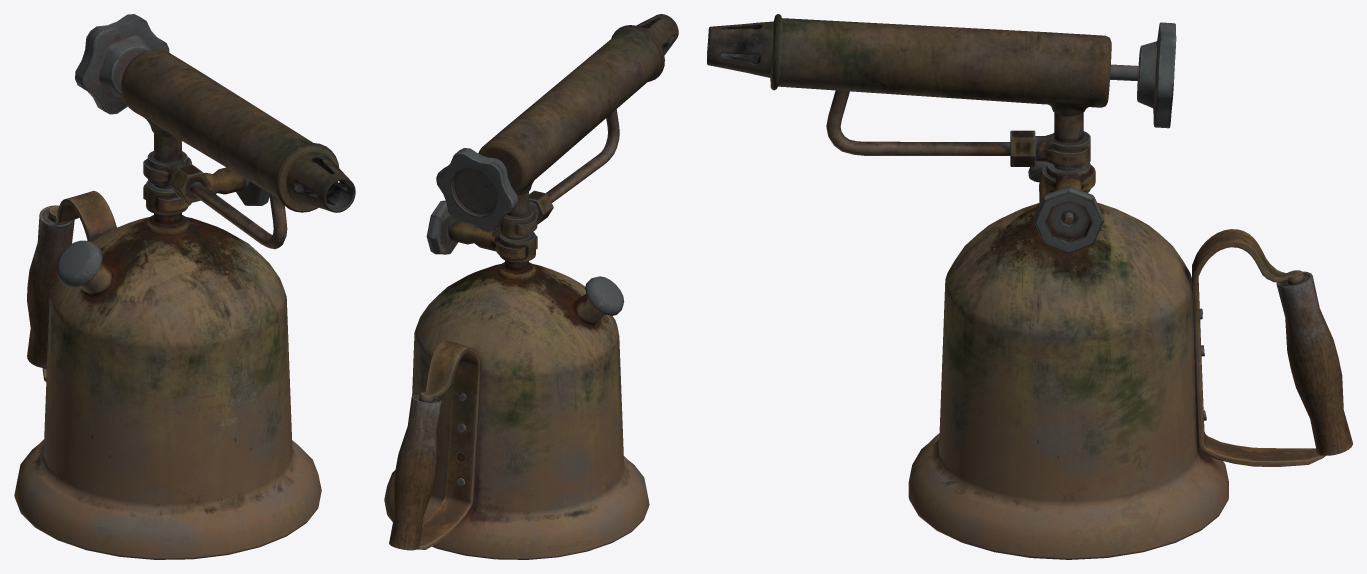
Rendered from brass_blowtorch_1k.gltf.
3 views of the same model, side by side, from view 1: azimuth 30°, elevation 25°; view 2: azimuth 150°, elevation 25°; view 3: azimuth 270°, elevation 25° (orthographic). The views are drawn at different scales.
Parts seen in each view (by area): view 1: brass_blowtorch; view 2: brass_blowtorch; view 3: brass_blowtorch.
Boxes of the visible parts, x1,y1,x2,y2 form: brass_blowtorch: (14,14,355,559); brass_blowtorch: (384,14,678,559); brass_blowtorch: (707,14,1352,559).
Bounding box in the file's own units: 0.1294 × 0.2106 × 0.2593.
Materials: 1 (1 with a texture image).
